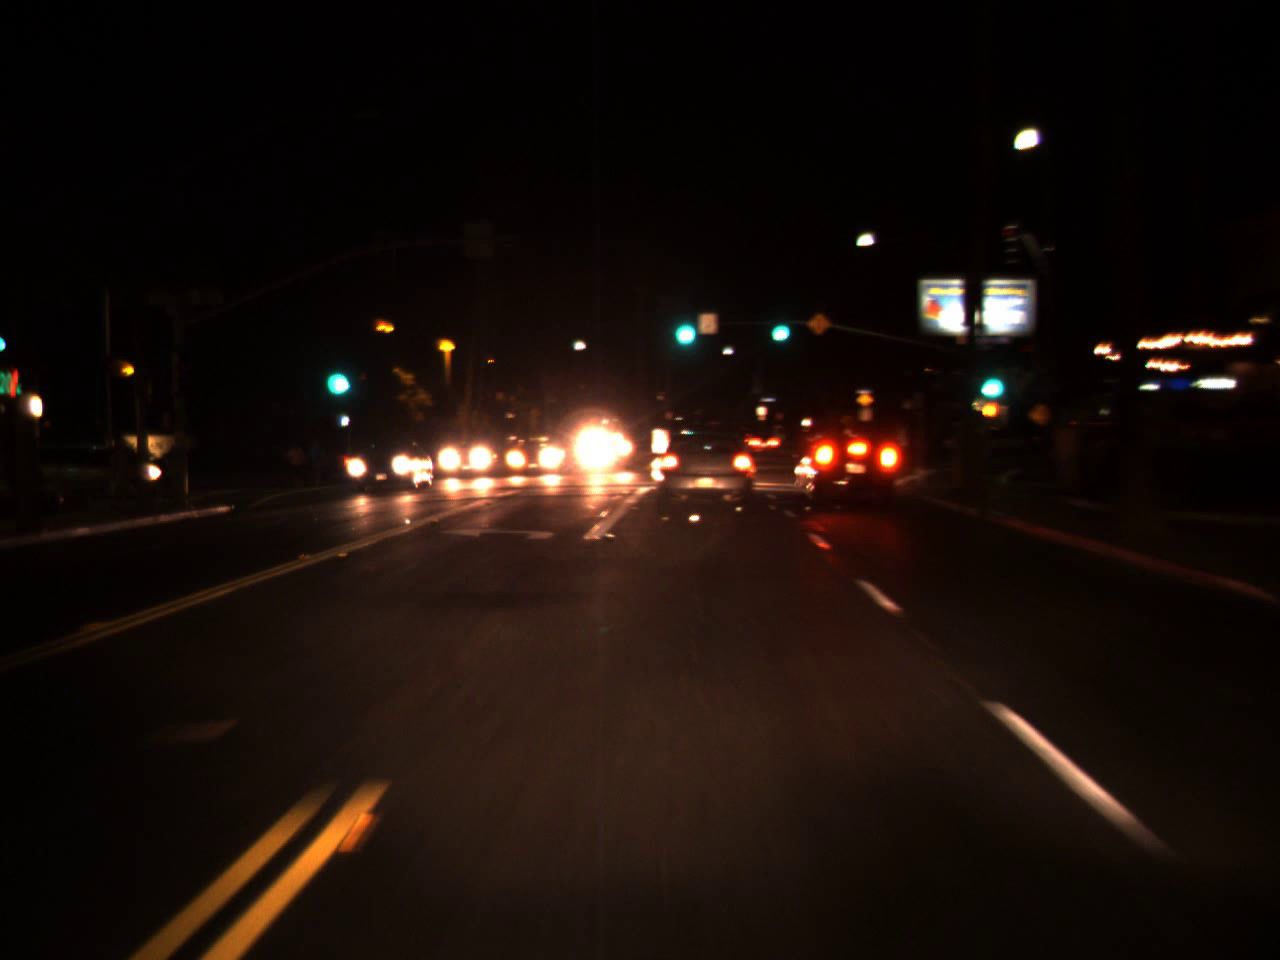go: (318, 344, 352, 404), (973, 354, 1009, 405), (666, 299, 700, 353), (766, 308, 793, 344)
